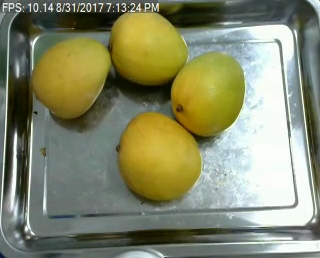Mango: (116, 110, 204, 201), (26, 36, 110, 120), (107, 6, 193, 87), (171, 50, 246, 137)
